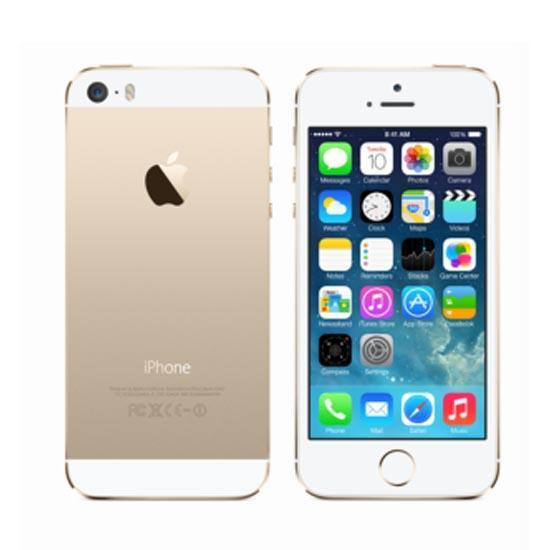phone: (293, 66, 502, 498), (65, 63, 271, 500)
